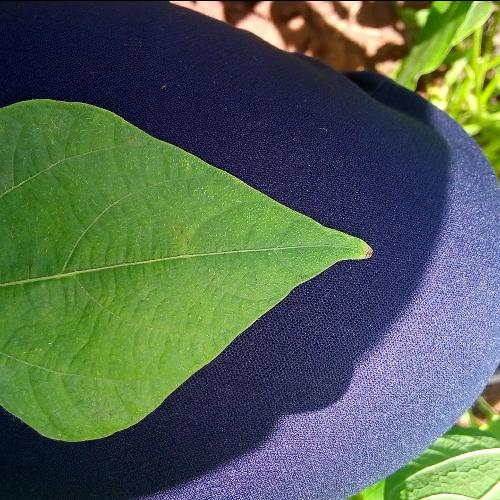sehat: (10, 135, 134, 401), (144, 171, 231, 329)
